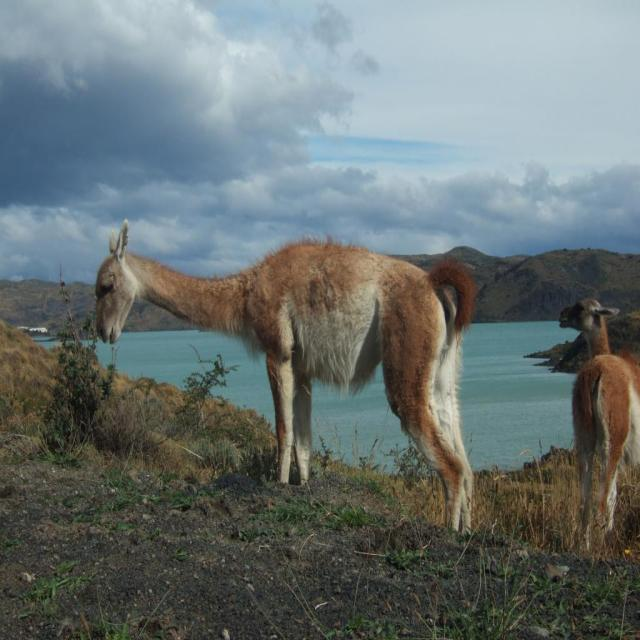alpaca: (95, 219, 476, 541), (560, 295, 640, 553)
